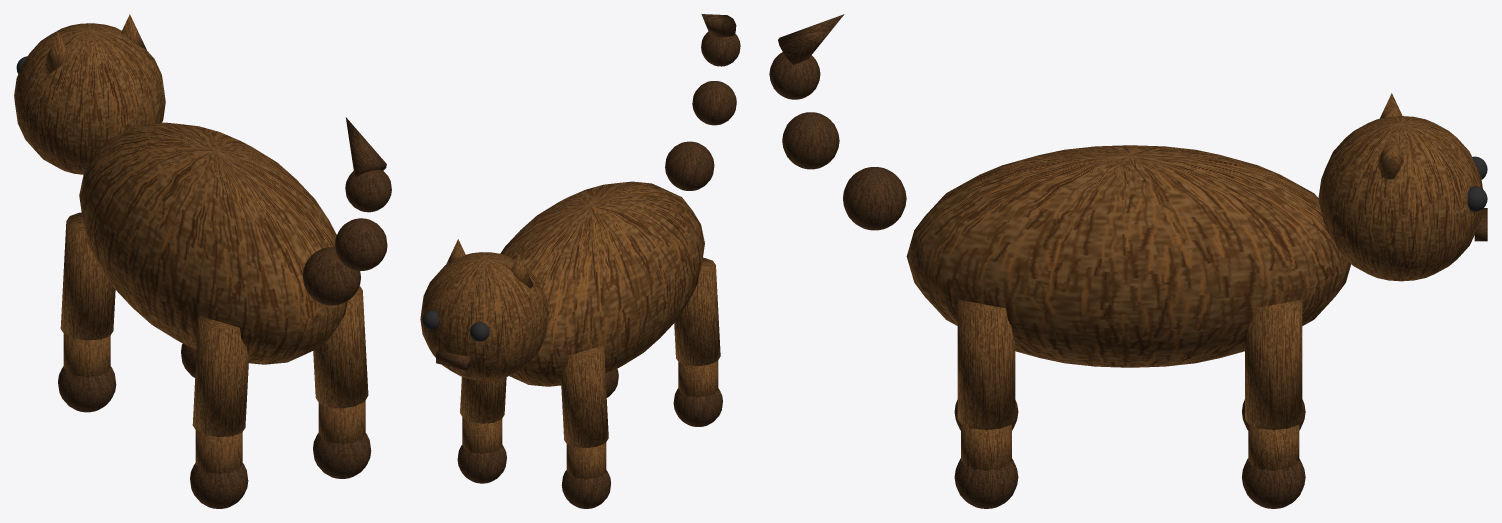
Rendered from manticore.glb.
3 renders of one model, left to right at view 1: azimuth 30°, elevation 25°; view 2: azimuth 150°, elevation 25°; view 3: azimuth 270°, elevation 25°, orthographic. The views are drawn at different scales.
Visible parts, largest first — view 1: Body, Head, LegUpper.001, LegUpper, LegUpper.003, ScorpSeg1, ScorpSeg2, Paw.001, Paw.003, Paw, LegLower, LegLower.001 (+4 smaller); view 2: Body, Head, LegUpper, LegUpper.001, ScorpSeg1, LegUpper.002, ScorpSeg2, Paw.001, Paw, Paw.002, LegLower.001, LegLower (+4 smaller); view 3: Body, Head, LegUpper.003, LegUpper.002, ScorpSeg1, ScorpSeg2, Paw.002, Paw.003, LegLower.002, LegLower.003, ScorpSeg3, Stinger (+1 smaller).
Part boxes in pixels (left/top/right/bottom): Body: left=79, top=122, right=347, bottom=364; Head: left=14, top=23, right=165, bottom=174; LegUpper.001: left=192, top=315, right=249, bottom=436; LegUpper: left=60, top=212, right=115, bottom=340; LegUpper.003: left=313, top=286, right=368, bottom=408; ScorpSeg1: left=302, top=247, right=360, bottom=305; ScorpSeg2: left=335, top=218, right=387, bottom=270; Paw.001: left=190, top=463, right=248, bottom=508; Paw.003: left=313, top=433, right=371, bottom=478; Paw: left=58, top=366, right=116, bottom=412; LegLower: left=63, top=334, right=110, bottom=377; LegLower.001: left=195, top=430, right=242, bottom=474; Body: left=500, top=181, right=704, bottom=386; Head: left=420, top=252, right=548, bottom=380; LegUpper: left=561, top=345, right=608, bottom=447; LegUpper.001: left=674, top=257, right=720, bottom=366; ScorpSeg1: left=665, top=141, right=714, bottom=190; LegUpper.002: left=460, top=377, right=506, bottom=423; ScorpSeg2: left=692, top=81, right=736, bottom=125; Paw.001: left=673, top=388, right=722, bottom=426; Paw: left=561, top=470, right=610, bottom=508; Paw.002: left=457, top=445, right=506, bottom=483; LegLower.001: left=678, top=360, right=718, bottom=397; LegLower: left=566, top=442, right=606, bottom=479; Body: left=906, top=145, right=1351, bottom=367; Head: left=1318, top=116, right=1482, bottom=281; LegUpper.003: left=957, top=299, right=1015, bottom=429; LegUpper.002: left=1245, top=299, right=1302, bottom=429; ScorpSeg1: left=843, top=167, right=906, bottom=230; ScorpSeg2: left=782, top=112, right=839, bottom=169; Paw.002: left=1242, top=458, right=1305, bottom=508; Paw.003: left=954, top=458, right=1018, bottom=508; LegLower.002: left=1248, top=424, right=1299, bottom=470; LegLower.003: left=961, top=424, right=1011, bottom=470; ScorpSeg3: left=769, top=52, right=820, bottom=99; Stinger: left=778, top=14, right=844, bottom=64.
Size of the model in its own units: 0.4407 by 1 by 1.42.
Materials: 3 (2 with a texture image).
